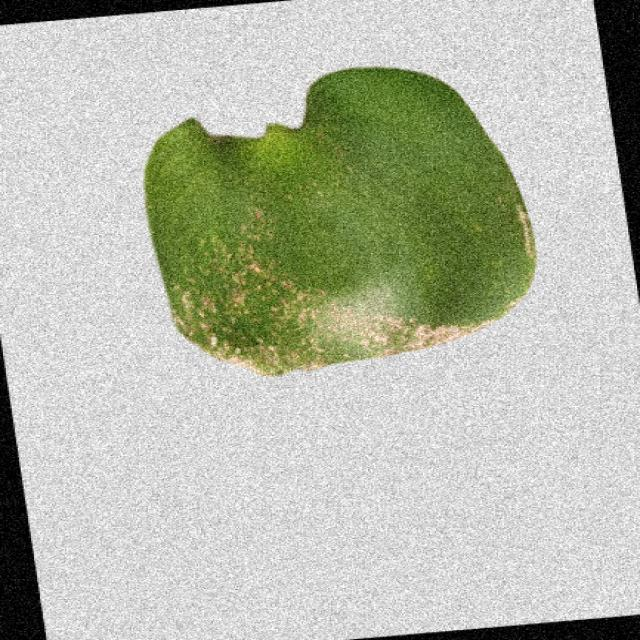daun berpenyakit bercak: (145, 69, 536, 376)
